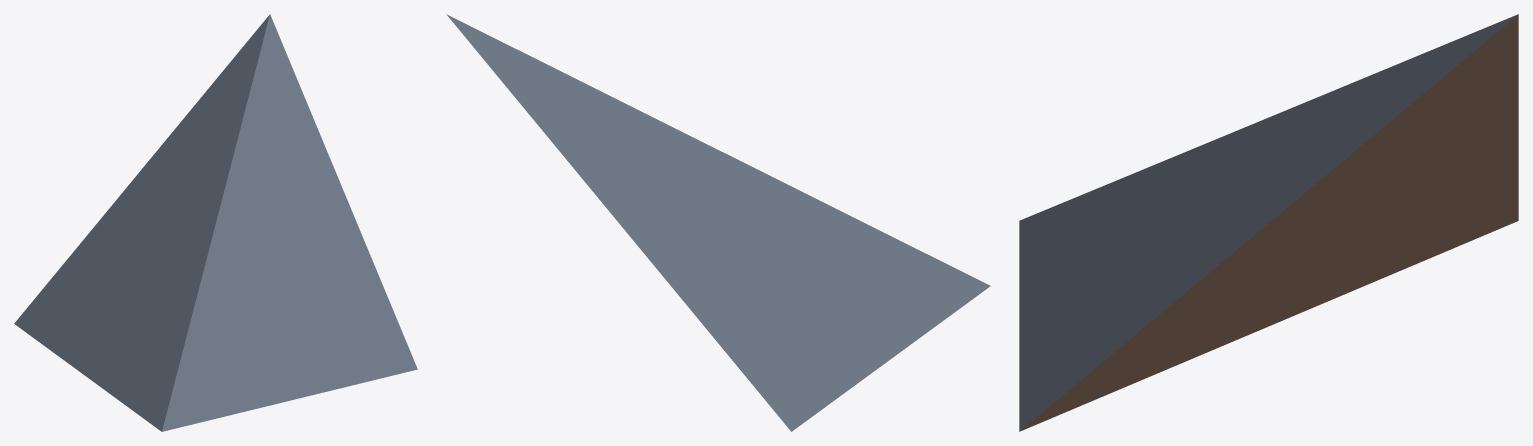
The model's file is haunted_roof_corner.glb.
3 renders of one model, left to right at view 1: azimuth 30°, elevation 25°; view 2: azimuth 150°, elevation 25°; view 3: azimuth 270°, elevation 25°, orthographic. The views are drawn at different scales.
Visible parts, largest first — view 1: Haunted_Roof_Corner; view 2: Haunted_Roof_Corner; view 3: Haunted_Roof_Corner.
Part boxes in pixels (left/top/right/bottom): Haunted_Roof_Corner: left=14, top=14, right=417, bottom=431; Haunted_Roof_Corner: left=446, top=14, right=990, bottom=431; Haunted_Roof_Corner: left=1019, top=14, right=1518, bottom=431.
Bounding box in the file's own units: 2.6 × 2.4 × 2.6.
